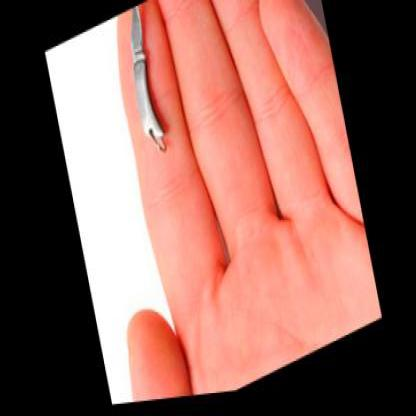knife: (116, 5, 158, 102)
